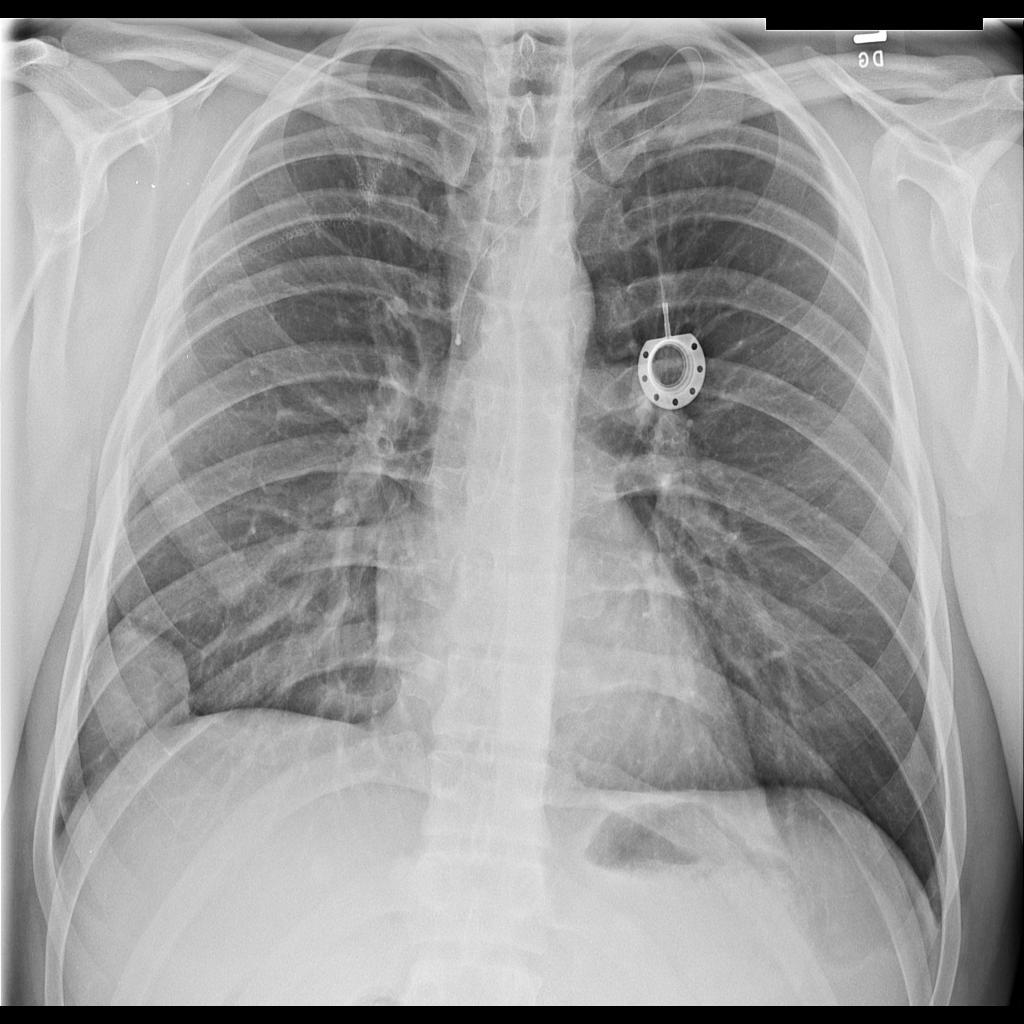Nodule: (93, 624, 196, 777)
